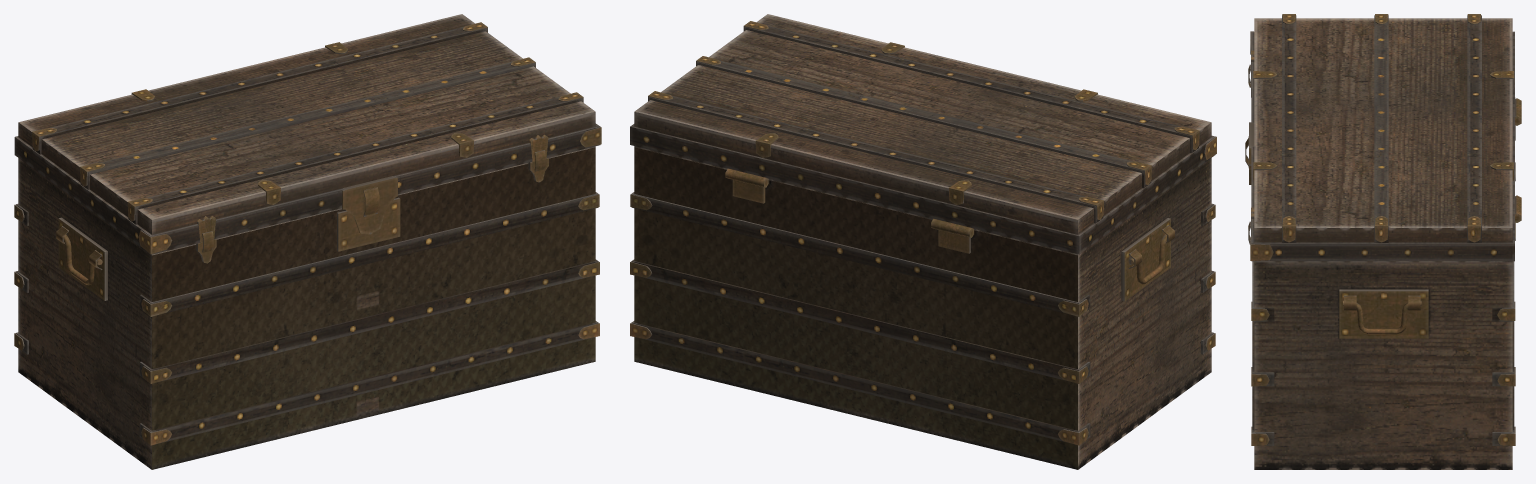
The model's file is Chest.FBX.
3 views of the same model, side by side, from view 1: azimuth 30°, elevation 25°; view 2: azimuth 150°, elevation 25°; view 3: azimuth 270°, elevation 25° (orthographic). The views are drawn at different scales.
Parts seen in each view (by area): view 1: SM_Chest_001, SM_Chest_1_001; view 2: SM_Chest_001, SM_Chest_1_001; view 3: SM_Chest_1_001, SM_Chest_001.
Part boxes in pixels (x1,y1,x2,y2): SM_Chest_001: (14, 147, 599, 469); SM_Chest_1_001: (14, 14, 601, 263); SM_Chest_001: (630, 147, 1215, 469); SM_Chest_1_001: (630, 14, 1216, 255); SM_Chest_1_001: (1245, 14, 1514, 262); SM_Chest_001: (1251, 97, 1521, 469).
Size of the model in its own units: 0.8472 by 0.451 by 0.4416.
Materials: 2 (2 with a texture image).
